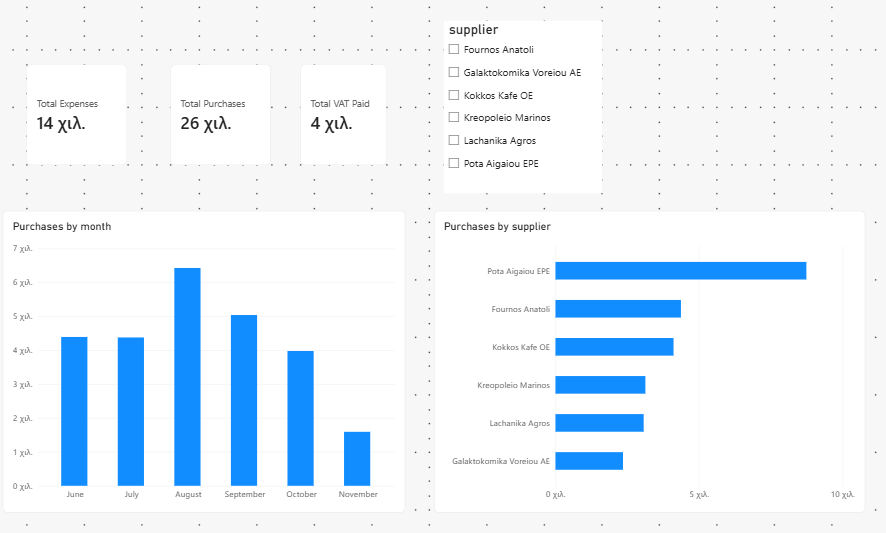

Layout of this report page (visuals, bound fields, positions):
{"tool":"powerbi","page":{"name":"Purchases","canvas":[1920,1080],"ordinal":0},"visuals":[{"type":"cardVisual","fields":{"Data":["purchase_lines.Total Expenses"]},"box":[96,120,168,168],"z":0},{"type":"cardVisual","fields":{"Data":["purchase_lines.Total Purchases"]},"box":[336,120,168,168],"z":1},{"type":"cardVisual","fields":{"Data":["purchase_lines.Total VAT Paid"]},"box":[552,120,144,168],"z":2},{"type":"clusteredColumnChart","title":"Purchases by month","fields":{"Category":["purchase_lines.issue_date.Variation.Date Hierarchy.Month"],"Y":["purchase_lines.Total Purchases"]},"box":[57,366.1,672,504],"z":3},{"type":"clusteredBarChart","title":"Purchases by supplier","fields":{"Category":["purchase_lines.supplier"],"Y":["purchase_lines.Total Purchases"]},"box":[777,366.1,720,504],"z":4},{"type":"slicer","fields":{"Values":["purchase_lines.supplier"]},"box":[792,48,264,288],"z":5}]}

Visuals, with their boxes on the page's 1920x1080 design canvas (x1, y1, x2, y2). These are canvas units, not pixel positions in the 886x533 screenshot, which may show the page scaled, cropped or inside an application window:
cardVisual - purchase_lines.Total Expenses: x1=96, y1=120, x2=264, y2=288
cardVisual - purchase_lines.Total Purchases: x1=336, y1=120, x2=504, y2=288
cardVisual - purchase_lines.Total VAT Paid: x1=552, y1=120, x2=696, y2=288
"Purchases by month" clusteredColumnChart: x1=57, y1=366, x2=729, y2=870
"Purchases by supplier" clusteredBarChart: x1=777, y1=366, x2=1497, y2=870
slicer - purchase_lines.supplier: x1=792, y1=48, x2=1056, y2=336
